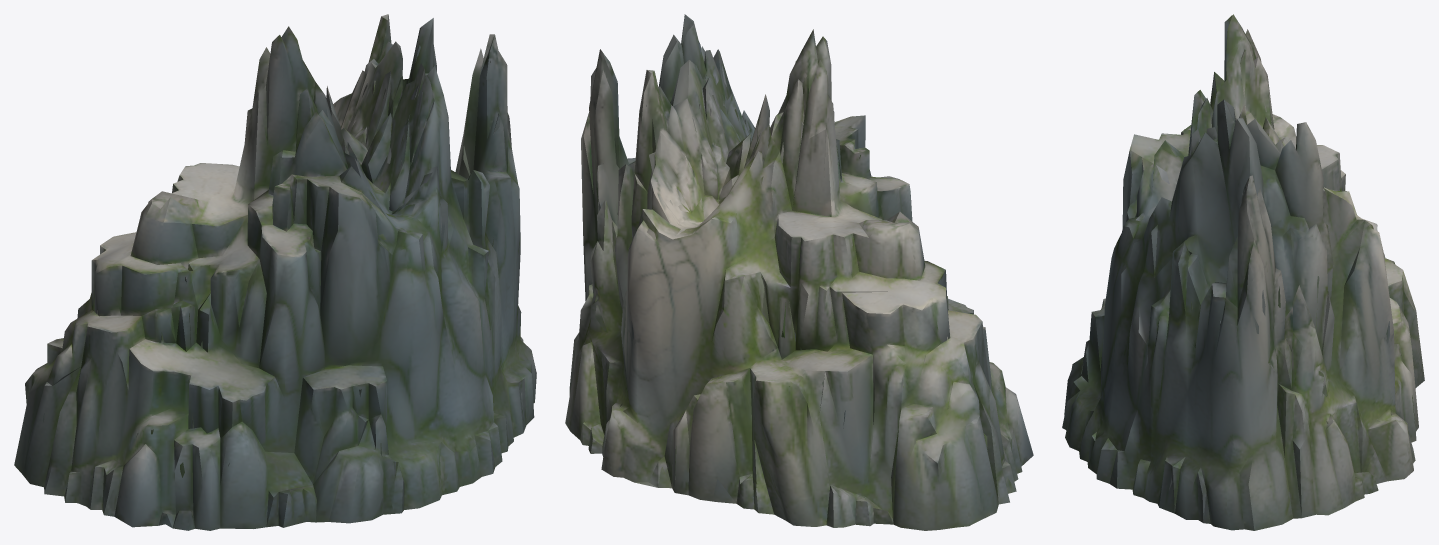
The model's file is SaddlePeaks_LOD0.fbx.
3 views of the same model, side by side, from view 1: azimuth 30°, elevation 25°; view 2: azimuth 150°, elevation 25°; view 3: azimuth 270°, elevation 25° (orthographic). The views are drawn at different scales.
Parts seen in each view (by area): view 1: SaddlePeaks_LOD0; view 2: SaddlePeaks_LOD0; view 3: SaddlePeaks_LOD0.
Boxes of the visible parts, left/top/right/bottom form: SaddlePeaks_LOD0: left=14, top=14, right=536, bottom=530; SaddlePeaks_LOD0: left=565, top=14, right=1033, bottom=530; SaddlePeaks_LOD0: left=1062, top=14, right=1424, bottom=530.
Bounding box in the file's own units: 36.96 × 32.17 × 26.11.
Materials: 1 (1 with a texture image).
